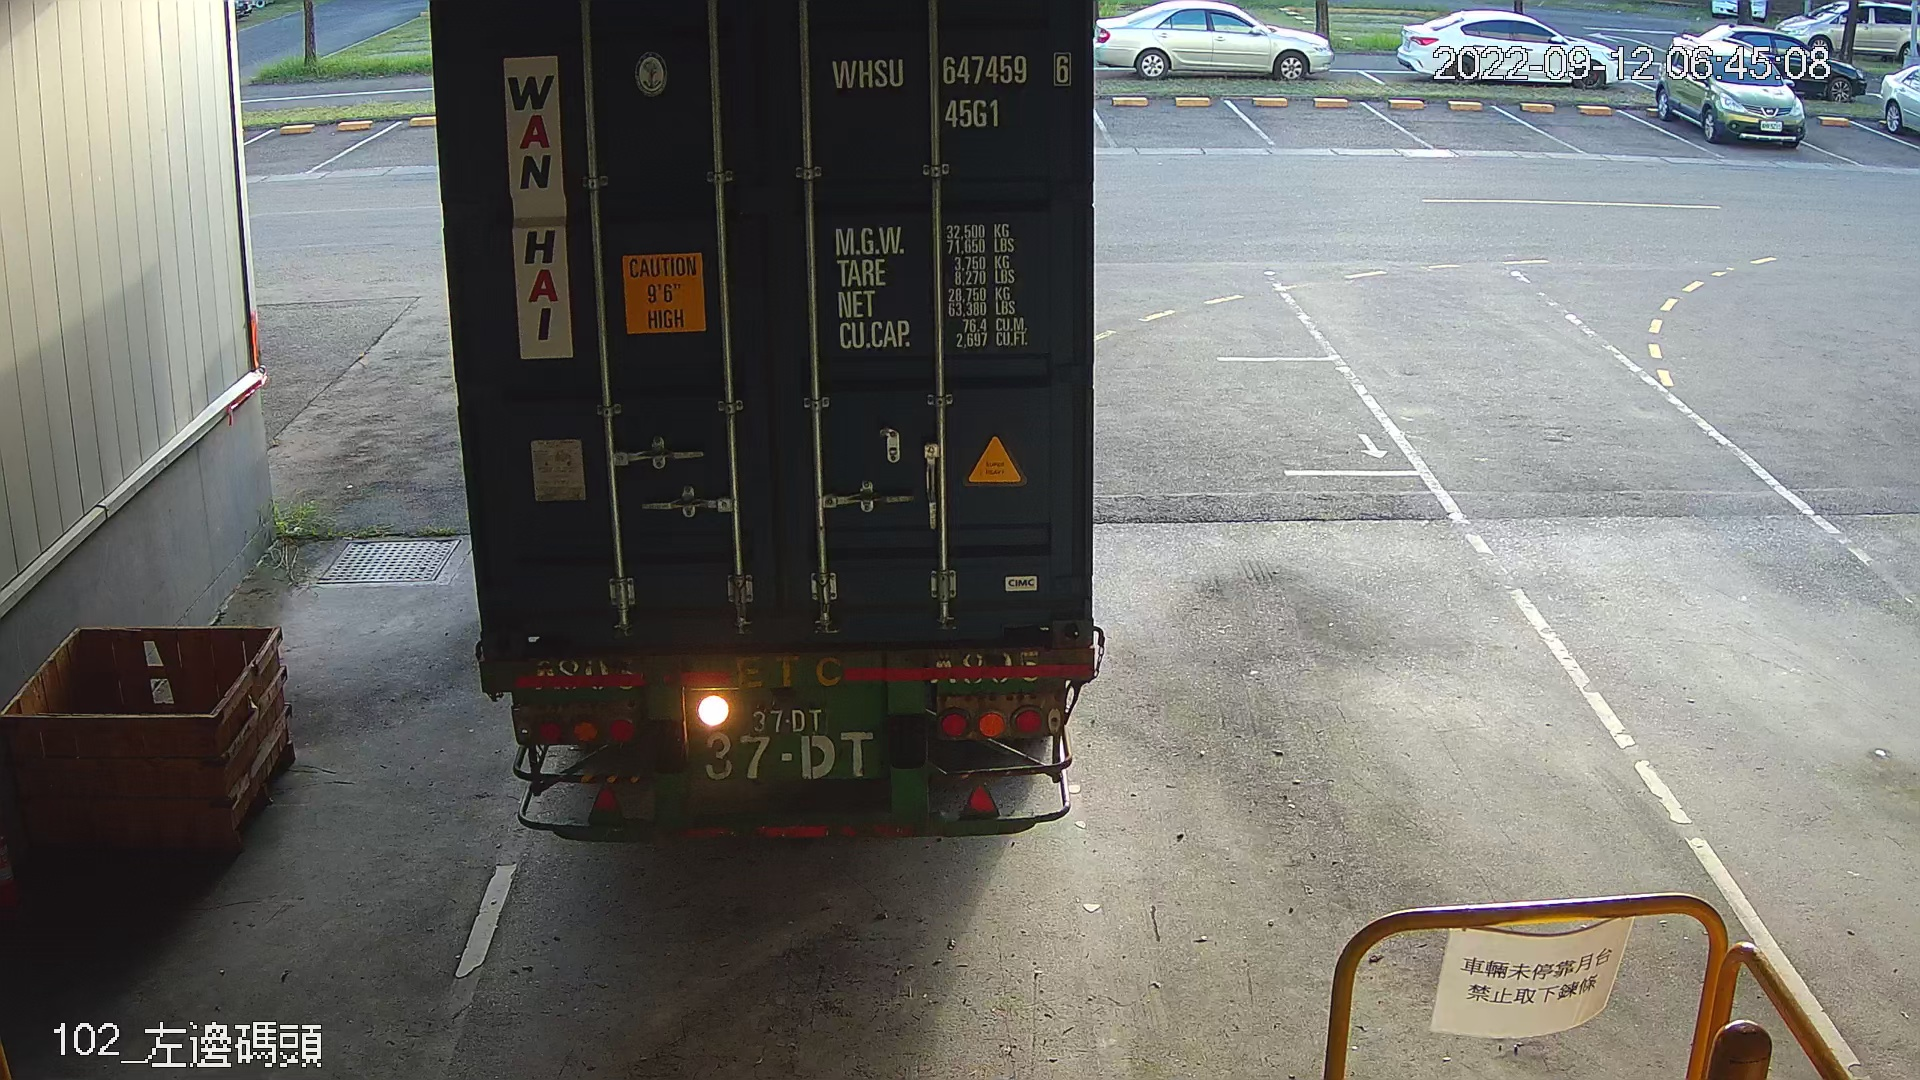container: (823, 44, 1079, 138)
